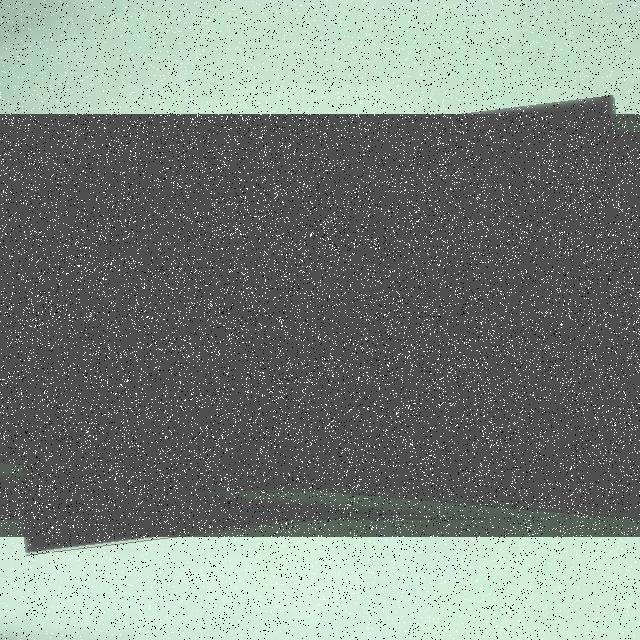dua ribu rupiah: (0, 114, 640, 537)
